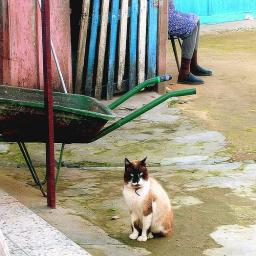catnose: (134, 176, 140, 184)
